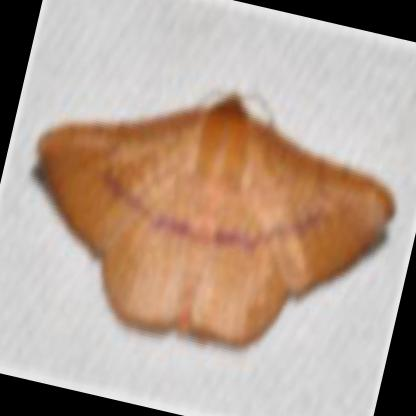Leaf Webber: (37, 83, 397, 345)
